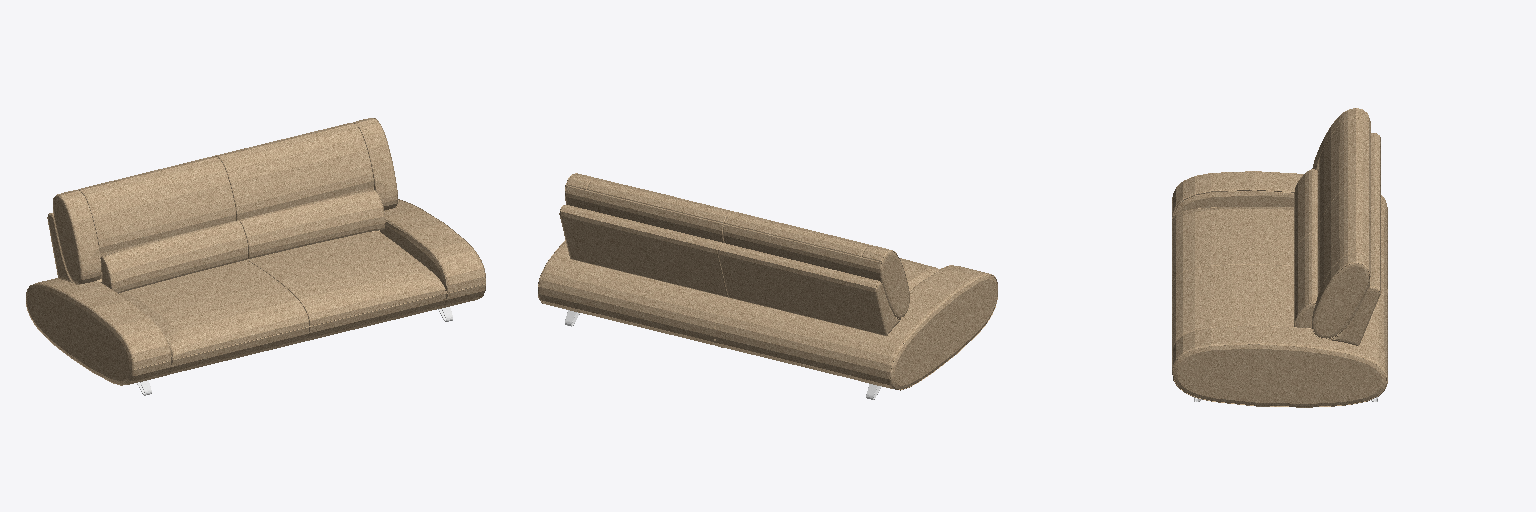
3 renders of one model, left to right at view 1: azimuth 30°, elevation 25°; view 2: azimuth 150°, elevation 25°; view 3: azimuth 270°, elevation 25°, orthographic.
Bounding box in the file's own units: 2.03 × 0.7791 × 1.07.
2 materials, 2 textured.